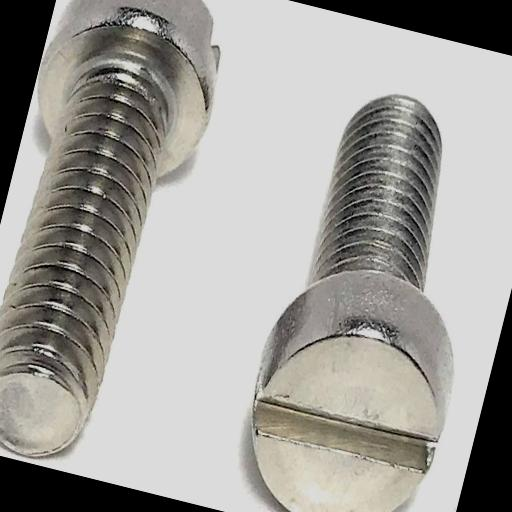Slotted: (230, 311, 461, 512)
